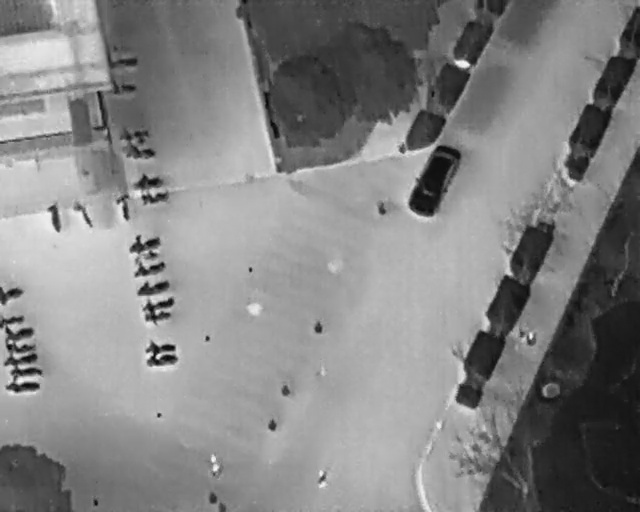Bicycle: (124, 227, 163, 256), (128, 254, 168, 281), (133, 272, 172, 299), (69, 198, 98, 232), (138, 291, 177, 316), (142, 334, 178, 359), (141, 305, 174, 328), (2, 322, 36, 344), (144, 350, 181, 370), (130, 170, 165, 191), (112, 193, 135, 223), (139, 188, 172, 208), (45, 202, 65, 235), (0, 283, 24, 306), (5, 352, 40, 366), (4, 381, 41, 394), (110, 54, 140, 70), (119, 128, 152, 141), (0, 311, 25, 328), (4, 341, 37, 353), (8, 367, 43, 378), (123, 147, 155, 159), (112, 82, 137, 95)
Car: (400, 134, 470, 225)
Person: (205, 451, 224, 478), (315, 469, 329, 489), (526, 332, 537, 348)
